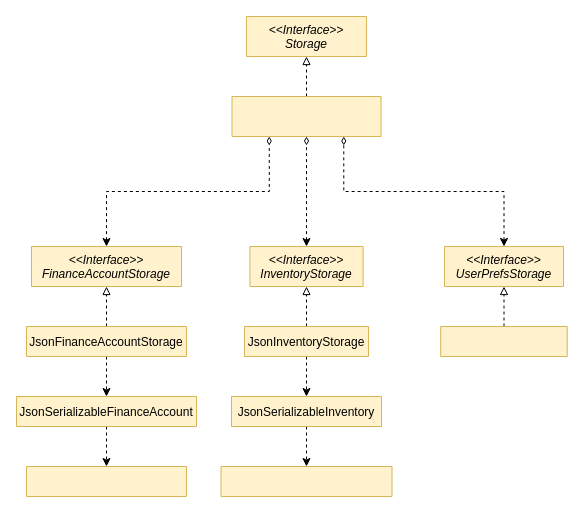
Image size: 584x513. Some labels were removed from this diagram. Here are the shapes that lost their labels. From the top down, the centre of each, then its label:
At (306,116): "StorageManager".
At (503,341): "JsonUserPrefsStorage".
At (106,481): "JsonAdaptedFinanceRecord".
At (306,481): "JsonAdaptedInventoryRecord".
